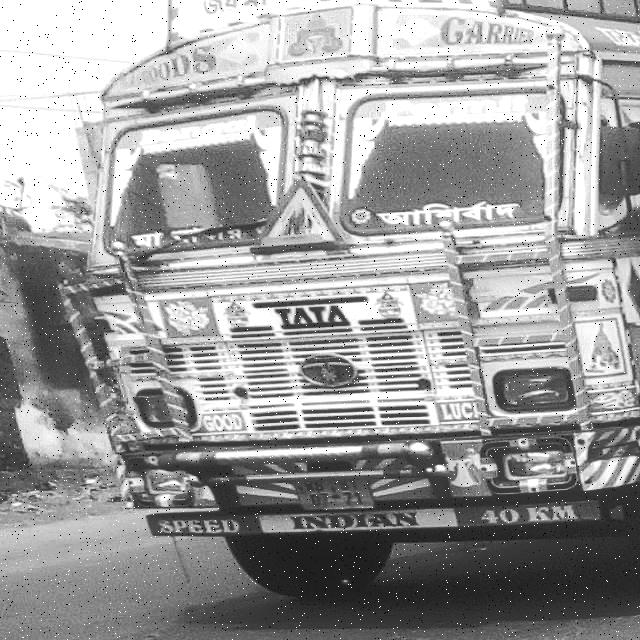HCV: (70, 0, 639, 569)
